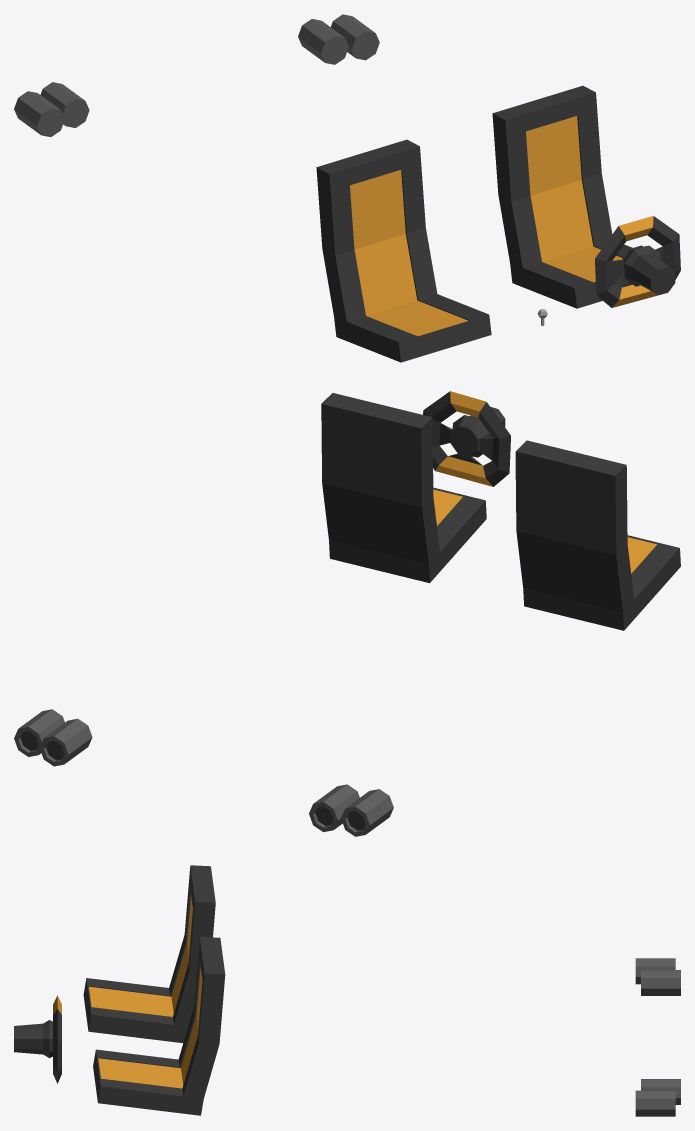
The picture shows the model from 3 angles, top to bottom: view 1: azimuth 30°, elevation 25°; view 2: azimuth 150°, elevation 25°; view 3: azimuth 270°, elevation 25°; orthographic projection. The views are drawn at different scales.
Visible parts, largest first — view 1: Cube, Exhaust, Torus; view 2: Cube, Exhaust, Torus; view 3: Cube, Exhaust, Torus.
Part boxes in pixels (<box>): Cube: <box>316,85,632,362</box>; Exhaust: <box>14,14,379,136</box>; Torus: <box>595,216,680,307</box>; Cube: <box>321,393,680,630</box>; Exhaust: <box>14,709,393,836</box>; Torus: <box>423,391,510,486</box>; Cube: <box>83,865,225,1115</box>; Exhaust: <box>635,958,680,1116</box>; Torus: <box>14,995,61,1083</box>.
Size of the model in its own units: 170 by 81.18 by 333.
